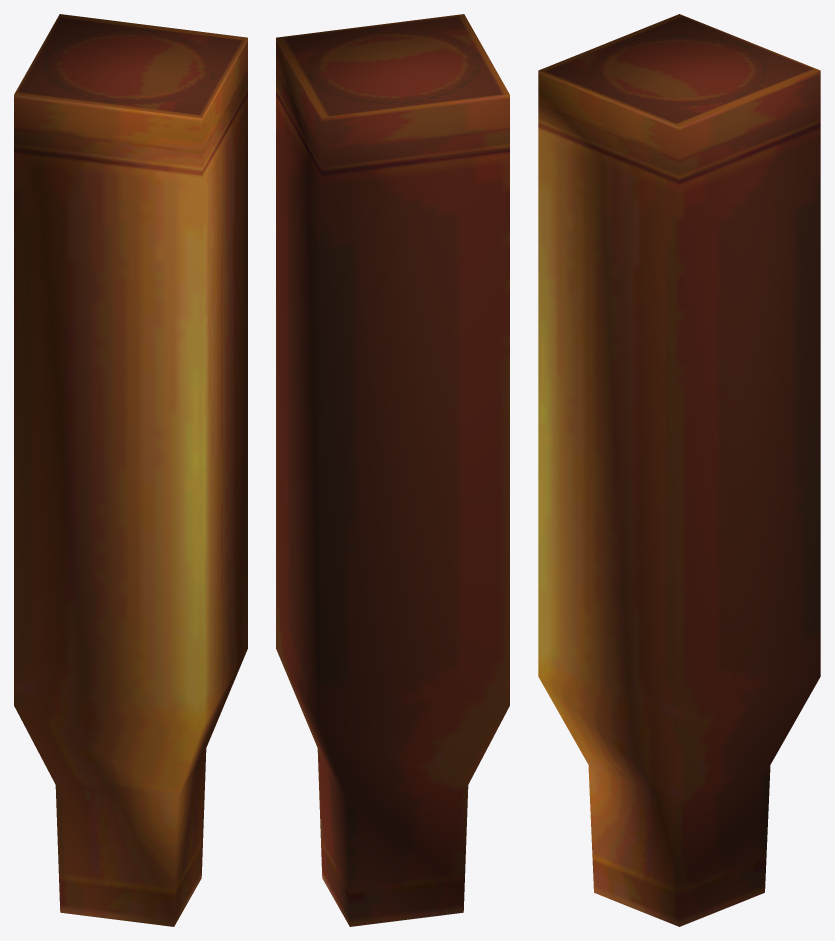
The model's file is Cartridge__case02_0b04fc6c__Cartridge__case_02_8d96494e_c1f257.obj.
The picture shows the model from 3 angles, left to right: view 1: azimuth 30°, elevation 25°; view 2: azimuth 150°, elevation 25°; view 3: azimuth 270°, elevation 25°; orthographic projection.
Size of the model in its own units: 0.0511 by 0.1732 by 0.054.
1 material, 1 textured.
